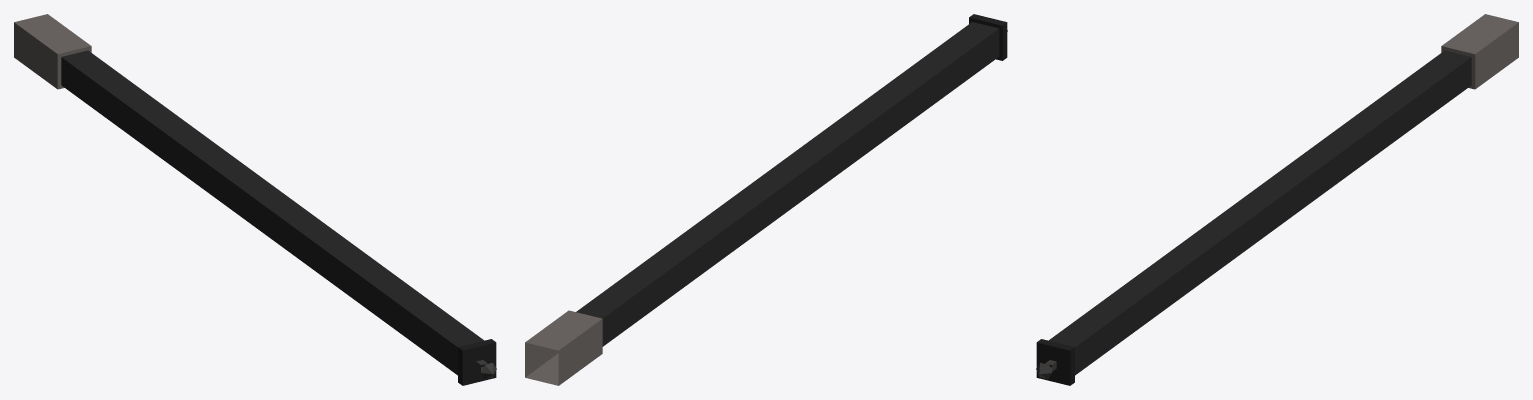
File: section-112.obj
3 views of the same model, side by side, from view 1: azimuth 30°, elevation 25°; view 2: azimuth 150°, elevation 25°; view 3: azimuth 330°, elevation 25° (orthographic).
Bounding box in the file's own units: 0.2 × 0.2211 × 4.75.
Materials: 1 (1 with a texture image).
